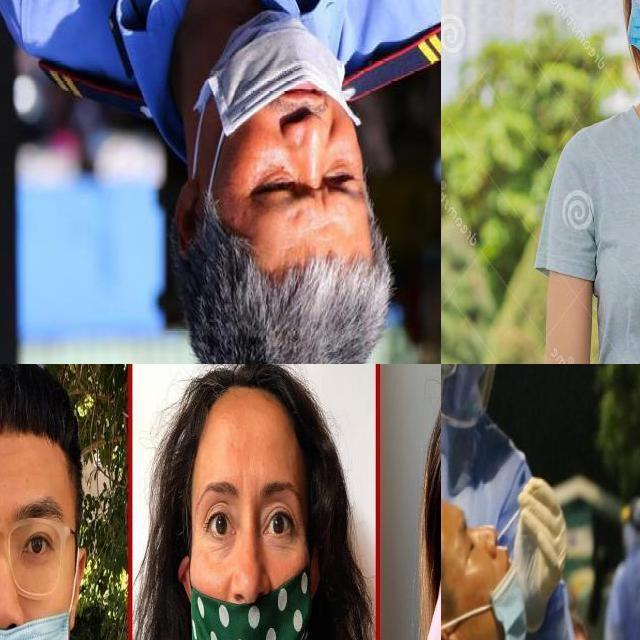apron: (515, 470, 571, 630)
hairnet: (215, 8, 368, 222), (192, 470, 307, 639), (448, 507, 528, 639), (0, 487, 69, 639)
no_gloves: (167, 212, 396, 364), (143, 365, 341, 513), (0, 366, 88, 491)
